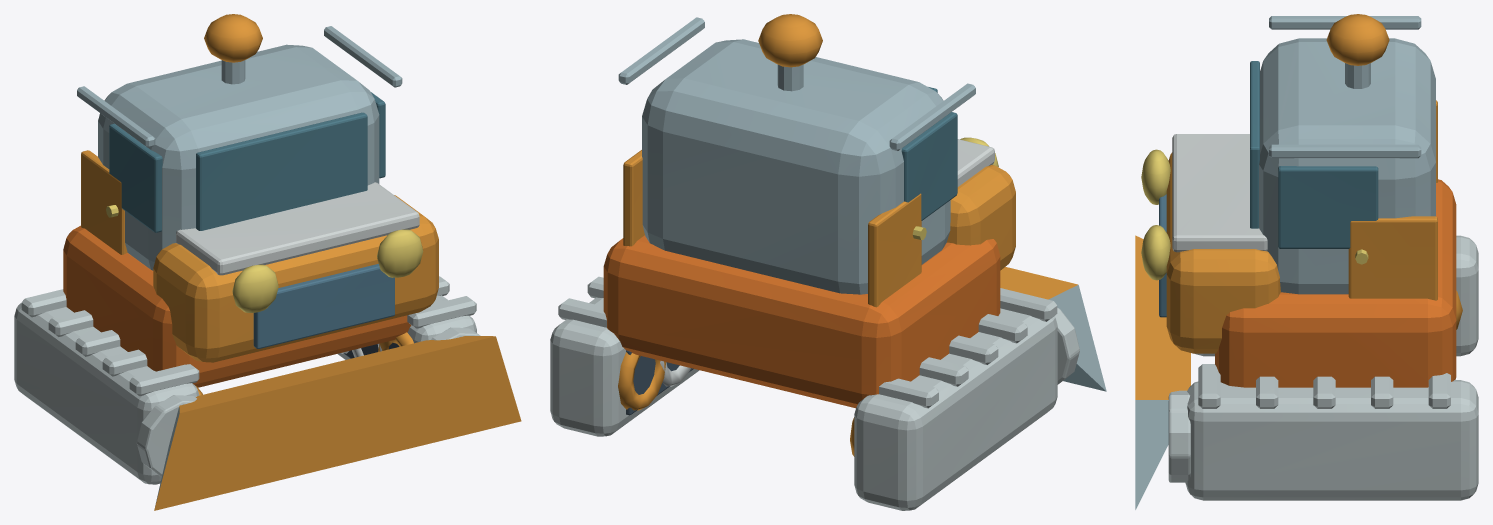
Rendered from runner_day_snowcat_v1.glb.
3 renders of one model, left to right at view 1: azimuth 30°, elevation 25°; view 2: azimuth 150°, elevation 25°; view 3: azimuth 270°, elevation 25°, orthographic. The views are drawn at different scales.
Visible parts, largest first — view 1: runner_day_snowcat_v1; view 2: runner_day_snowcat_v1; view 3: runner_day_snowcat_v1.
Part boxes in pixels (bbox=[...]): runner_day_snowcat_v1: bbox=[14, 14, 521, 510]; runner_day_snowcat_v1: bbox=[550, 14, 1106, 510]; runner_day_snowcat_v1: bbox=[1135, 14, 1478, 509].
Bounding box in the file's own units: 2.44 × 2.38 × 1.85.
